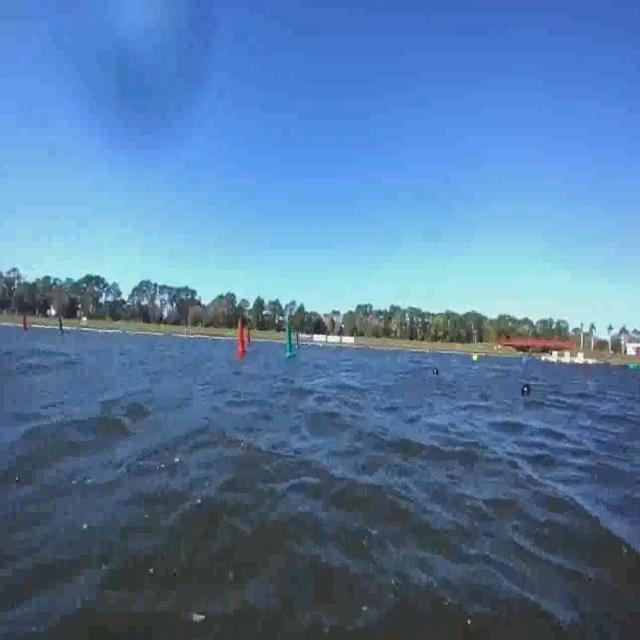black-buoy: (521, 381, 533, 397), (434, 367, 441, 378)
green-column-buoy: (284, 325, 295, 357), (58, 312, 67, 336)
red-column-buoy: (238, 322, 248, 355), (246, 328, 254, 346), (22, 315, 28, 334)
yellow-buoy: (471, 352, 478, 364)
